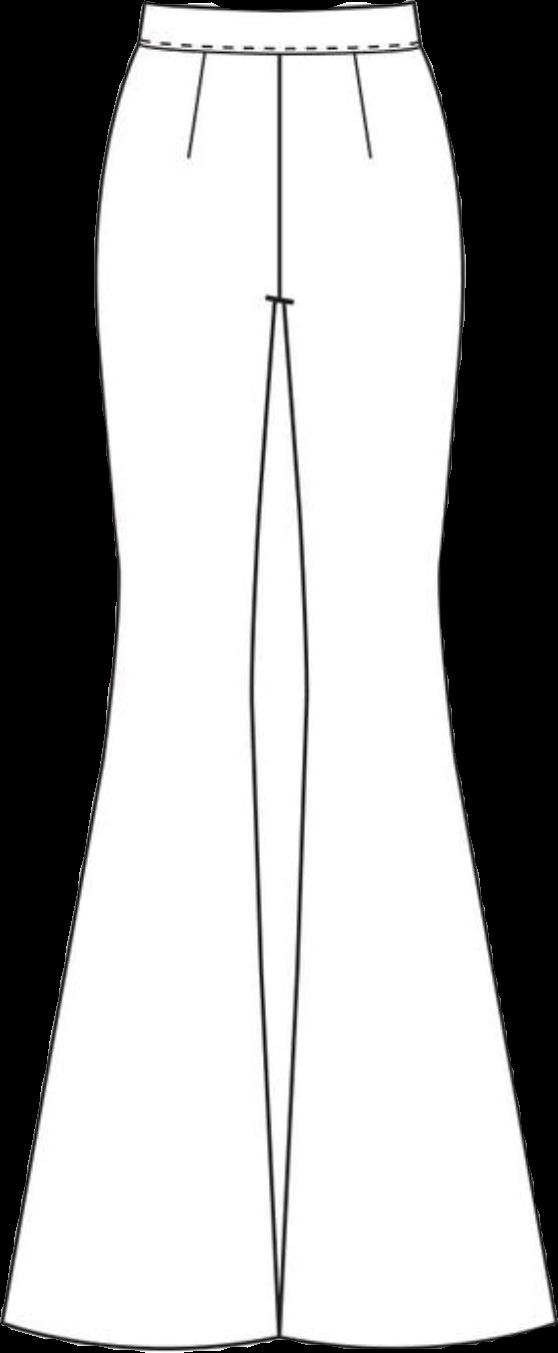Hemline: (0, 1309, 283, 1352), (280, 1312, 557, 1351)
Pantleg: (0, 0, 280, 1347), (276, 0, 549, 1345)
Waistline: (126, 34, 428, 67), (135, 0, 421, 22)
